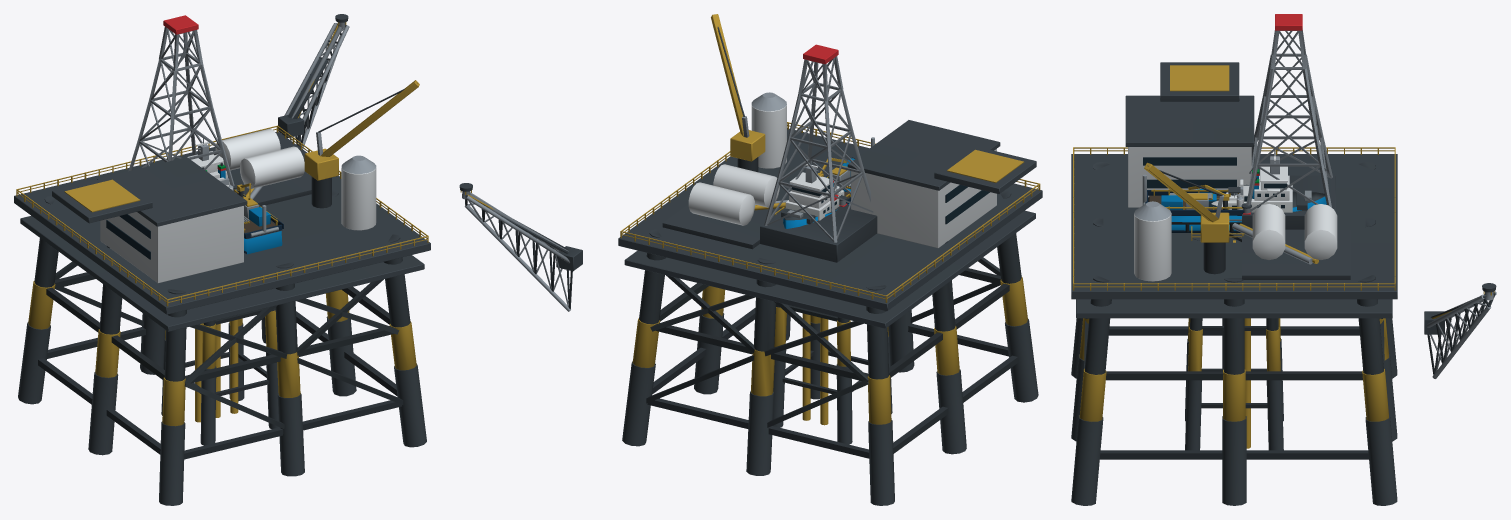
Rendered from marine_v2.glb.
3 views of the same model, side by side, from view 1: azimuth 30°, elevation 25°; view 2: azimuth 150°, elevation 25°; view 3: azimuth 270°, elevation 25° (orthographic). The views are drawn at different scales.
Visible parts, largest first — view 1: sister_platform, riser_dolphin, flare_boom, supply_vessel; view 2: sister_platform, riser_dolphin, flare_boom, supply_vessel; view 3: sister_platform, riser_dolphin, supply_vessel, flare_boom.
Part boxes in pixels (x1=…): sister_platform: x1=14, y1=15, x2=430, y2=505; riser_dolphin: x1=161, y1=184, x2=278, y2=445; flare_boom: x1=278, y1=14, x2=349, y2=148; supply_vessel: x1=187, y1=138, x2=283, y2=254; sister_platform: x1=618, y1=14, x2=1042, y2=505; riser_dolphin: x1=699, y1=188, x2=892, y2=444; flare_boom: x1=459, y1=183, x2=582, y2=311; supply_vessel: x1=781, y1=137, x2=874, y2=228; sister_platform: x1=1071, y1=14, x2=1397, y2=505; riser_dolphin: x1=1185, y1=184, x2=1318, y2=450; supply_vessel: x1=1142, y1=150, x2=1326, y2=233; flare_boom: x1=1424, y1=283, x2=1496, y2=378.
Bounding box in the file's own units: 10.3 × 9.17 × 8.6.
